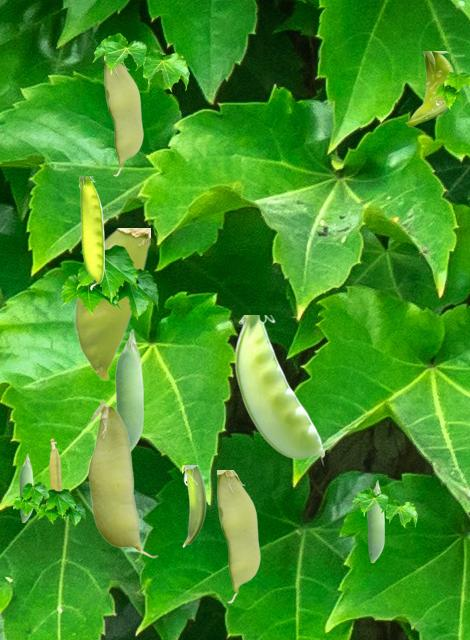pea: (234, 315, 323, 466), (74, 228, 149, 379), (87, 399, 157, 557), (217, 470, 259, 602), (104, 58, 142, 175), (405, 51, 454, 125), (115, 329, 142, 450), (79, 176, 103, 289), (182, 465, 206, 546), (367, 480, 383, 561), (19, 453, 32, 521), (49, 438, 61, 490)
